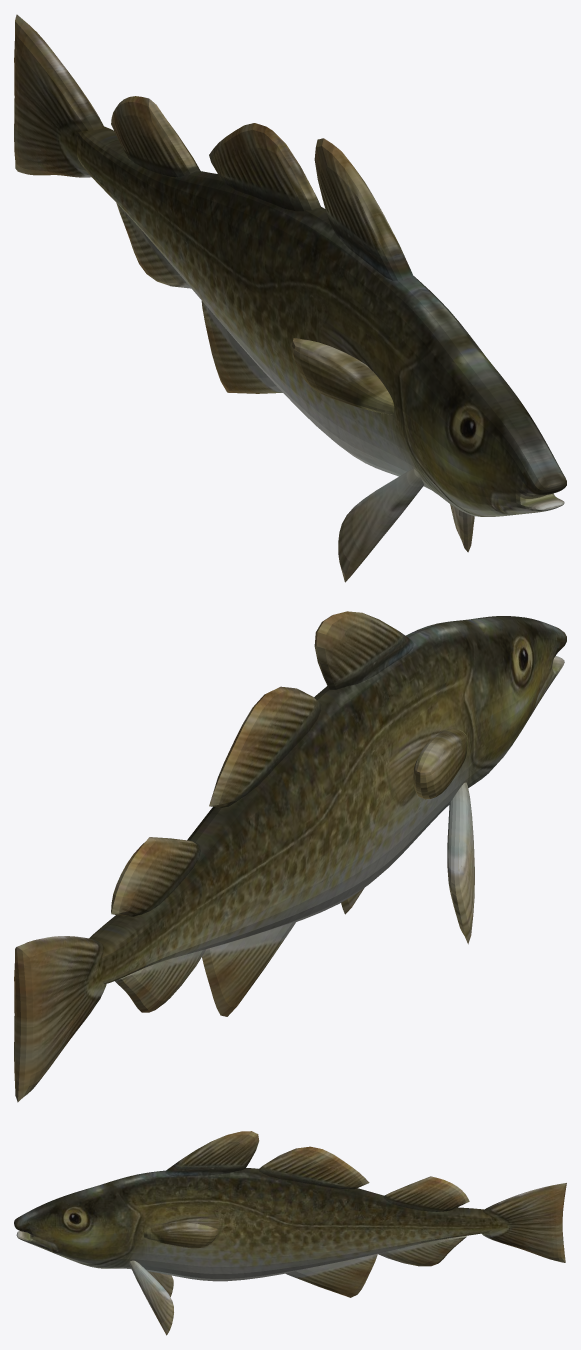
File: Cod.obj
The picture shows the model from 3 angles, top to bottom: view 1: azimuth 30°, elevation 25°; view 2: azimuth 150°, elevation 25°; view 3: azimuth 270°, elevation 25°; orthographic projection. The views are drawn at different scales.
Parts seen in each view (by area): view 1: Cube.001; view 2: Cube.001; view 3: Cube.001.
Part boxes in pixels (<box>): Cube.001: <box>14,14,566,582</box>; Cube.001: <box>14,611,566,1102</box>; Cube.001: <box>14,1131,566,1335</box>.
Bounding box in the file's own units: 0.9399 × 2.38 × 6.29.
1 material, 1 textured.
